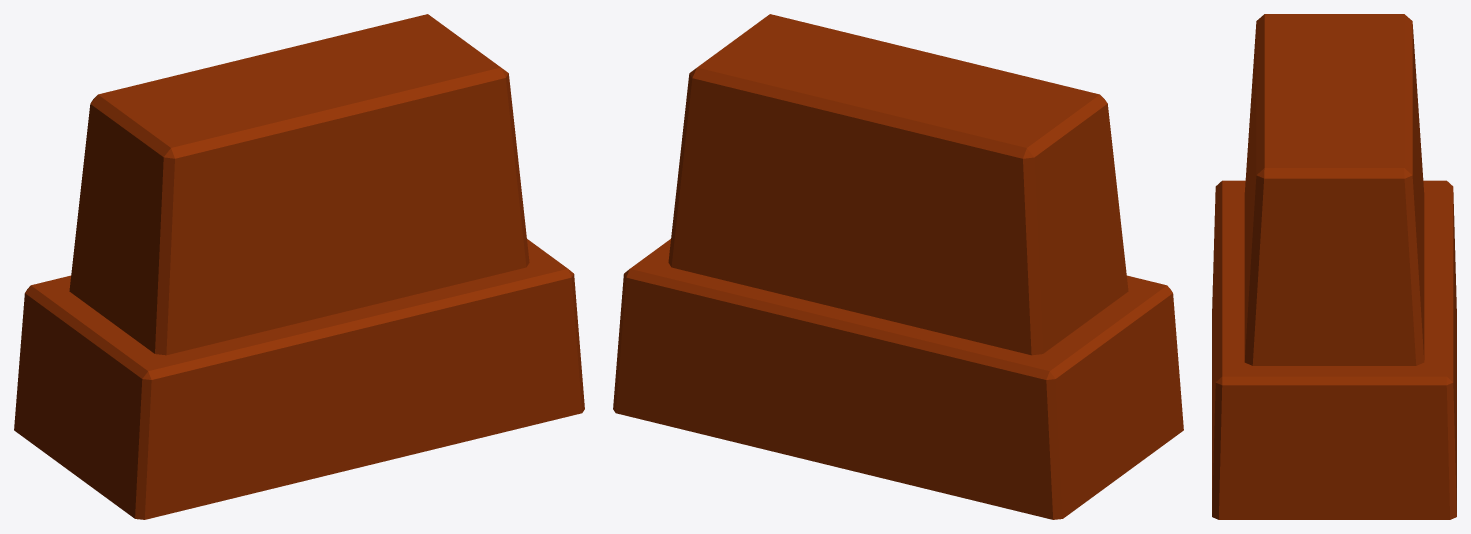
File: Tomb_01.fbx
3 views of the same model, side by side, from view 1: azimuth 30°, elevation 25°; view 2: azimuth 150°, elevation 25°; view 3: azimuth 270°, elevation 25° (orthographic). The views are drawn at different scales.
Parts seen in each view (by area): view 1: Tomb_01; view 2: Tomb_01; view 3: Tomb_01.
Boxes of the visible parts, box(x1,y1,x2,y2) form: Tomb_01: box(14, 14, 584, 519); Tomb_01: box(613, 14, 1183, 519); Tomb_01: box(1212, 14, 1456, 519).
Size of the model in its own units: 0.5175 by 0.3723 by 0.255.
